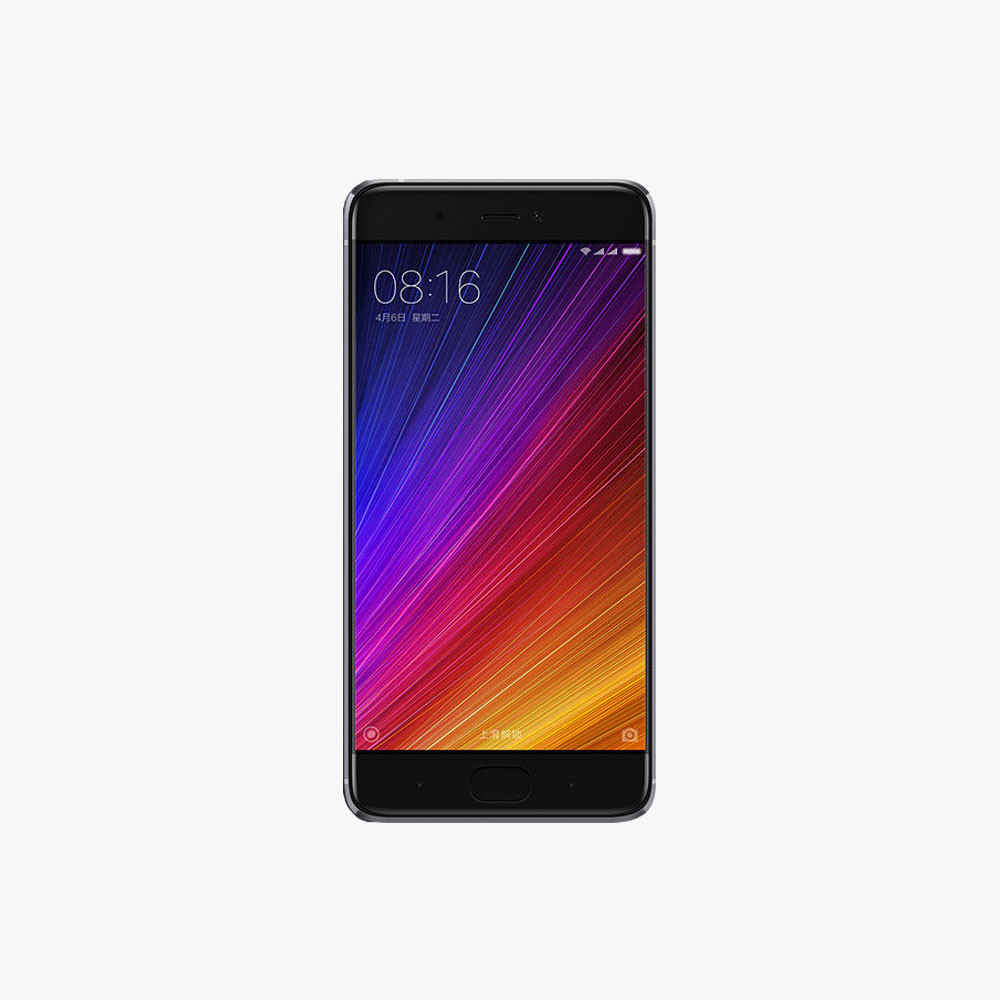smartphone: (342, 178, 657, 823)
